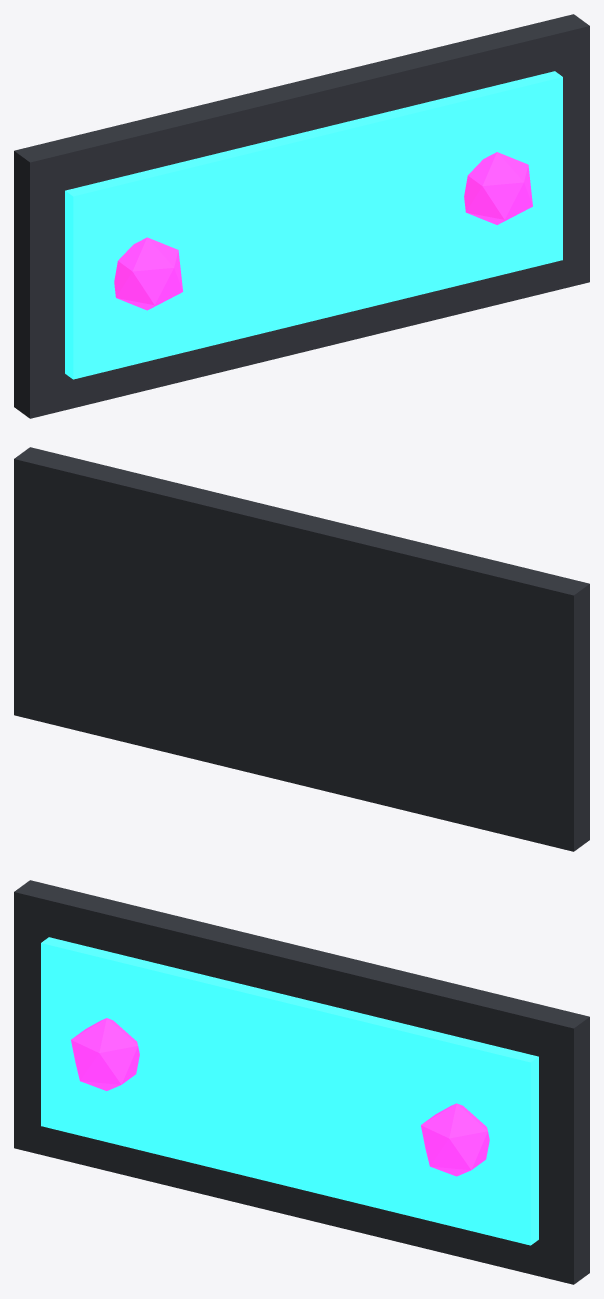
File: neon_sign_strike.glb
3 renders of one model, top to bottom at view 1: azimuth 30°, elevation 25°; view 2: azimuth 150°, elevation 25°; view 3: azimuth 330°, elevation 25°, orthographic.
Parts seen in each view (by area): view 1: neon_sign_strike; view 2: neon_sign_strike; view 3: neon_sign_strike.
Boxes of the visible parts, x1=… form: neon_sign_strike: x1=14, y1=14, x2=589, y2=418; neon_sign_strike: x1=14, y1=447, x2=589, y2=851; neon_sign_strike: x1=14, y1=880, x2=589, y2=1284.
Bounding box in the file's own units: 1.6 × 0.7 × 0.2251.
